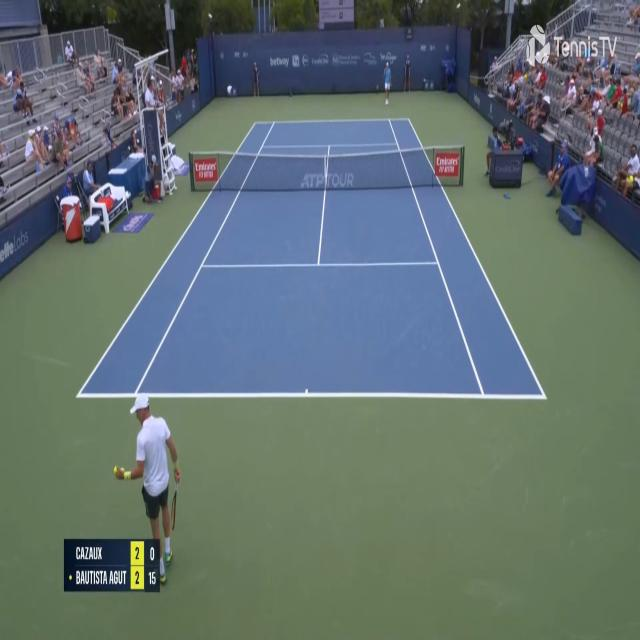tennis-player: (111, 329, 182, 566), (382, 59, 392, 106)
